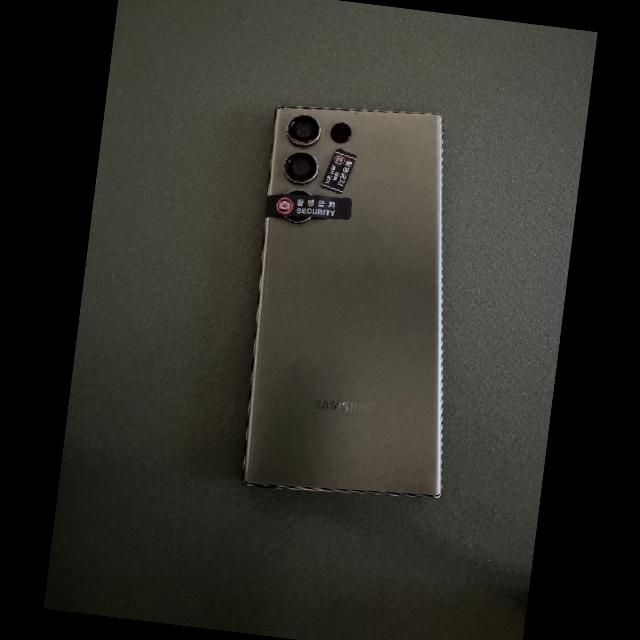lens: (288, 115, 320, 146), (286, 152, 317, 183), (332, 124, 351, 142), (286, 191, 310, 196)
phone: (242, 106, 442, 497)
sticker: (266, 194, 351, 219), (319, 150, 357, 193)
